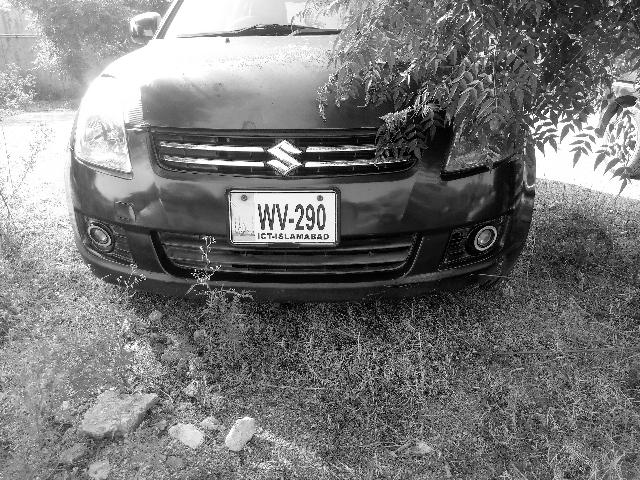Number: (256, 200, 328, 232)
